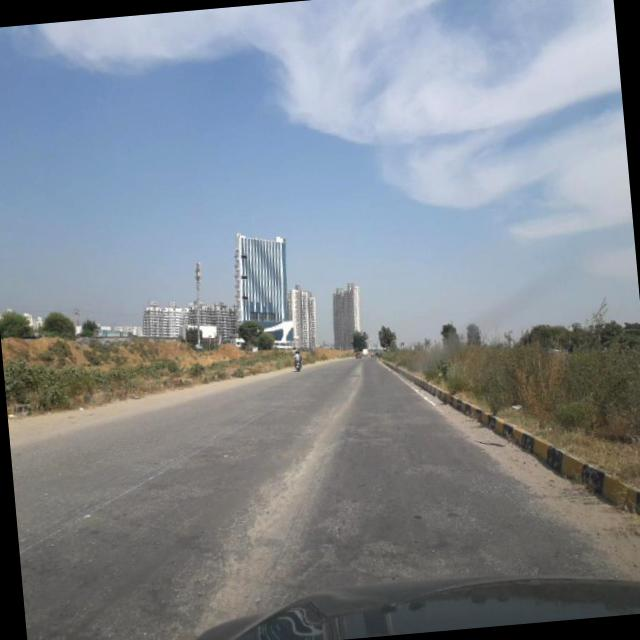pothole: (178, 406, 362, 600)
